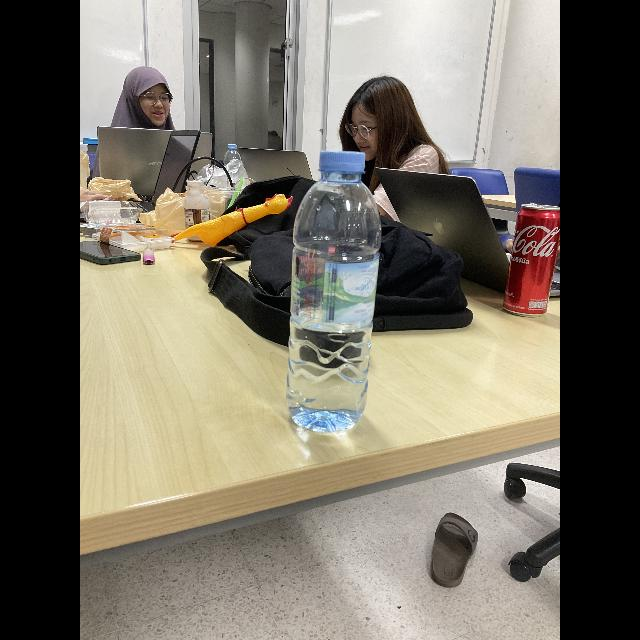can: (502, 204, 560, 318)
plastic_bag: (140, 186, 226, 238), (193, 160, 250, 196), (88, 175, 142, 203), (80, 150, 90, 192)
plastic_bottle: (279, 142, 401, 446), (184, 180, 212, 240), (224, 145, 242, 169)
plastic_bottle_cap: (318, 150, 367, 172), (227, 144, 237, 150)
plastic_box: (93, 223, 173, 253), (81, 200, 142, 226)
plastic_cup: (207, 187, 241, 221)
straw: (225, 177, 245, 209)
